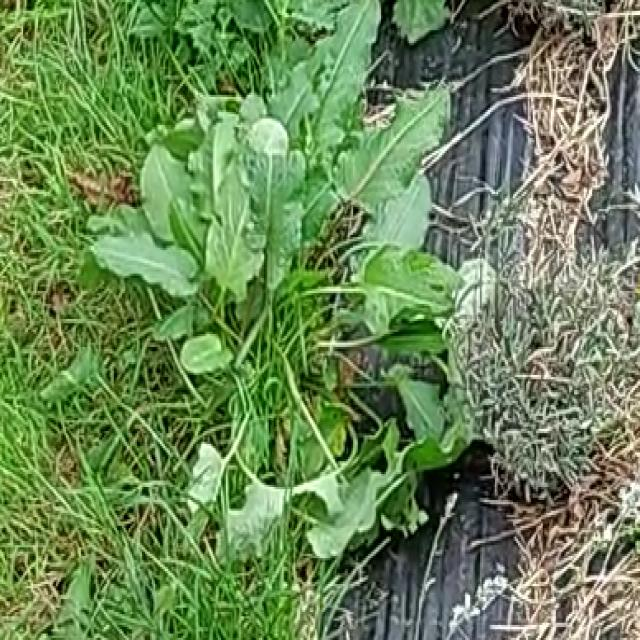organic waste: (107, 11, 510, 560)
